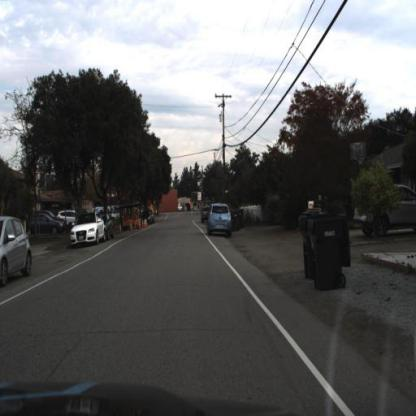car: (351, 182, 416, 238), (1, 212, 34, 289), (68, 213, 108, 249), (68, 213, 105, 247), (21, 210, 65, 236), (209, 201, 232, 236), (55, 210, 78, 228), (102, 212, 114, 239), (199, 206, 210, 227)
truck: (121, 211, 142, 231)
